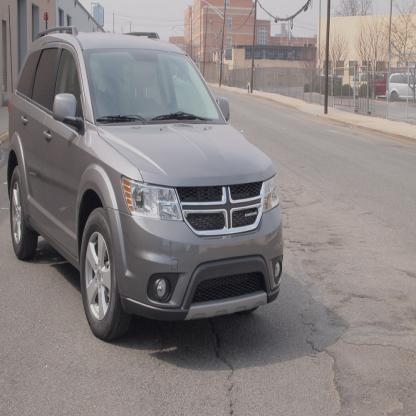Vehicle: (6, 24, 285, 346)
